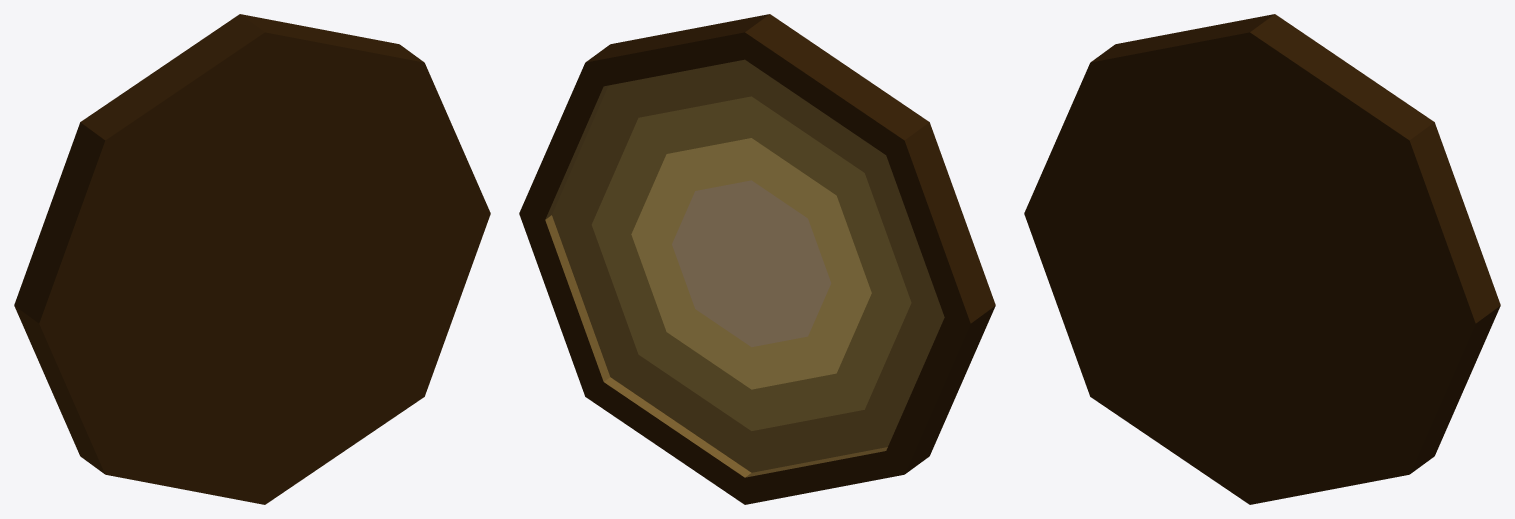
The model's file is Platform Type 1.fbx.
3 views of the same model, side by side, from view 1: azimuth 30°, elevation 25°; view 2: azimuth 150°, elevation 25°; view 3: azimuth 330°, elevation 25° (orthographic).
Visible parts, largest first — view 1: Platform Type 1; view 2: Platform Type 1; view 3: Platform Type 1.
Part boxes in pixels (x1=…): Platform Type 1: x1=14, y1=14, x2=490, y2=504; Platform Type 1: x1=519, y1=14, x2=995, y2=504; Platform Type 1: x1=1024, y1=14, x2=1500, y2=504.
Size of the model in its own units: 657 by 657 by 63.24.
